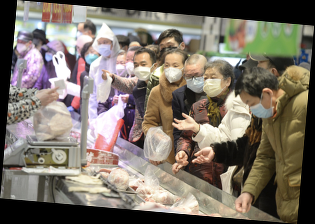with_mask: (244, 99, 277, 122), (202, 73, 225, 100), (183, 70, 206, 94), (163, 61, 185, 83), (132, 60, 152, 82), (96, 39, 114, 58), (82, 48, 99, 65), (125, 56, 136, 77), (114, 59, 125, 77), (15, 40, 27, 55), (43, 50, 54, 62)
